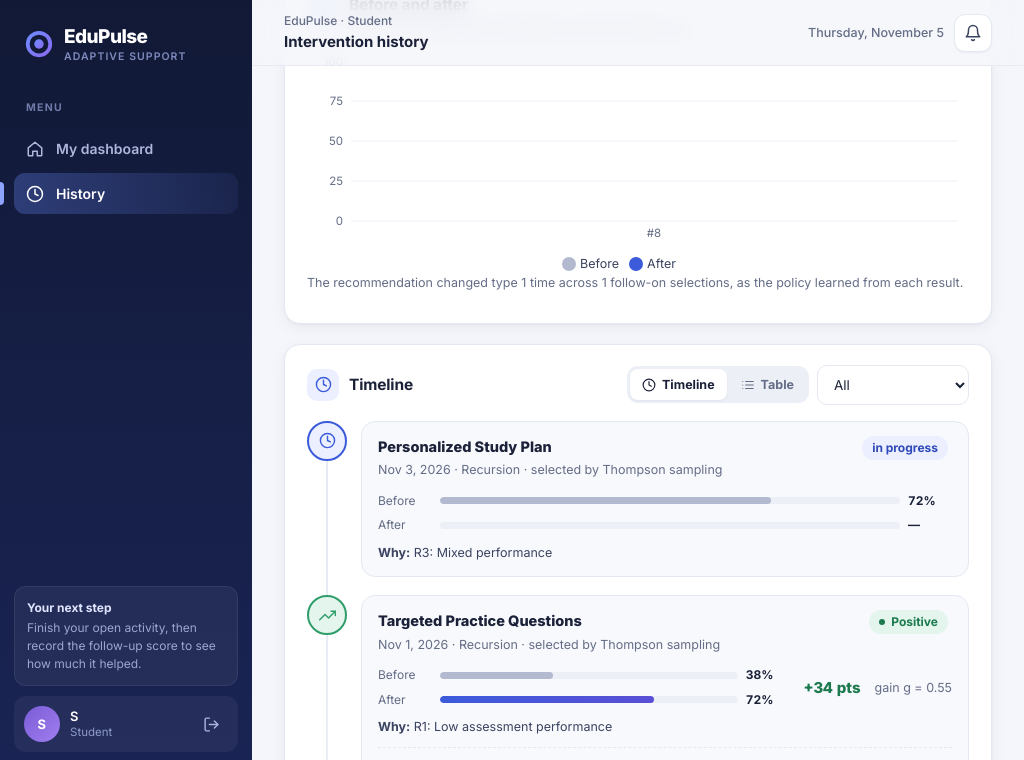
Intervention history timeline › switches to the table view
The image size is (1024, 760).
(page scrolled)
Click the button "Table".
click(767, 385)  # box 729,369 -> 806,400
(page scrolled)
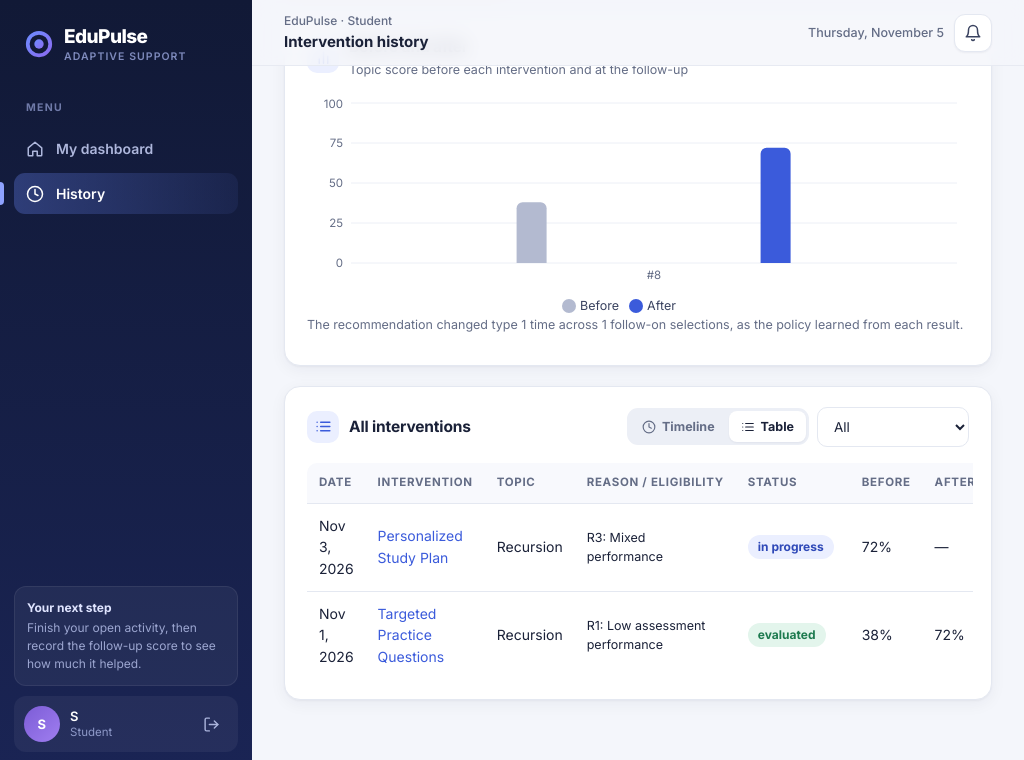
Now the column heading "Reason / eligibility" is shown, box 575,463 -> 736,504
